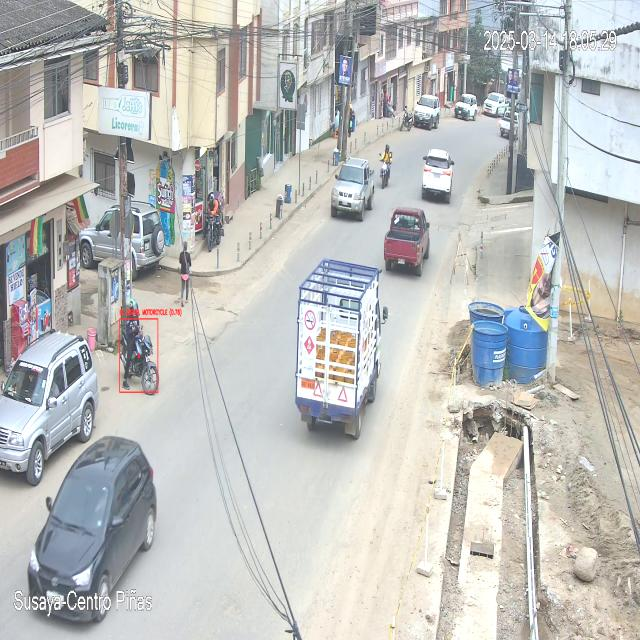CMT: (384, 205, 430, 277), (330, 158, 376, 222)
SED: (15, 436, 158, 626)
SUV: (422, 149, 454, 203)
TRUCK: (296, 259, 384, 442)
